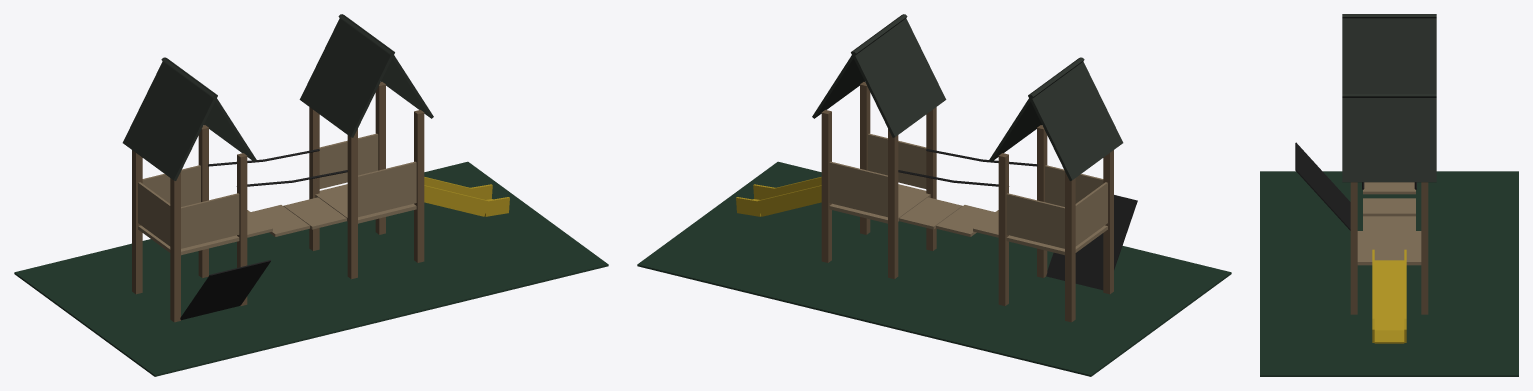
Rendered from SM_Prop_play_climber_1_LOD1.glb.
3 views of the same model, side by side, from view 1: azimuth 30°, elevation 25°; view 2: azimuth 150°, elevation 25°; view 3: azimuth 270°, elevation 25° (orthographic). The views are drawn at different scales.
Visible parts, largest first — view 1: SM_Prop_play_climber_1_LOD1; view 2: SM_Prop_play_climber_1_LOD1; view 3: SM_Prop_play_climber_1_LOD1.
Part boxes in pixels (box(x1,y1,x2,y2)): SM_Prop_play_climber_1_LOD1: box(14, 14, 608, 376); SM_Prop_play_climber_1_LOD1: box(637, 14, 1231, 376); SM_Prop_play_climber_1_LOD1: box(1260, 14, 1518, 376).
Size of the model in its own units: 8.2 by 3.87 by 4.4.
